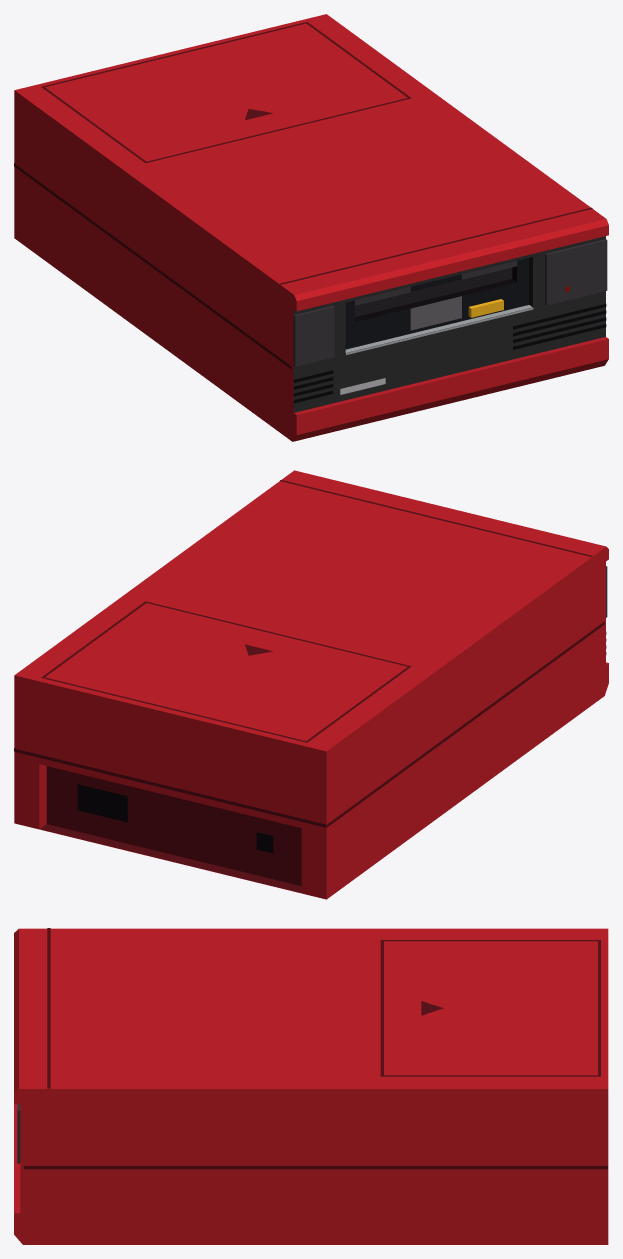
File: fds.obj
3 views of the same model, one above another, from view 1: azimuth 30°, elevation 25°; view 2: azimuth 150°, elevation 25°; view 3: azimuth 270°, elevation 25° (orthographic). The views are drawn at different scales.
Visible parts, largest first — view 1: body, flap; view 2: body; view 3: body.
Part boxes in pixels (<box>): body: <box>14,14,608,441</box>; flap: <box>354,267,512,316</box>; body: <box>14,470,608,899</box>; body: <box>14,928,608,1244</box>.
Size of the model in its own units: 15.04 by 6.82 by 23.52.
